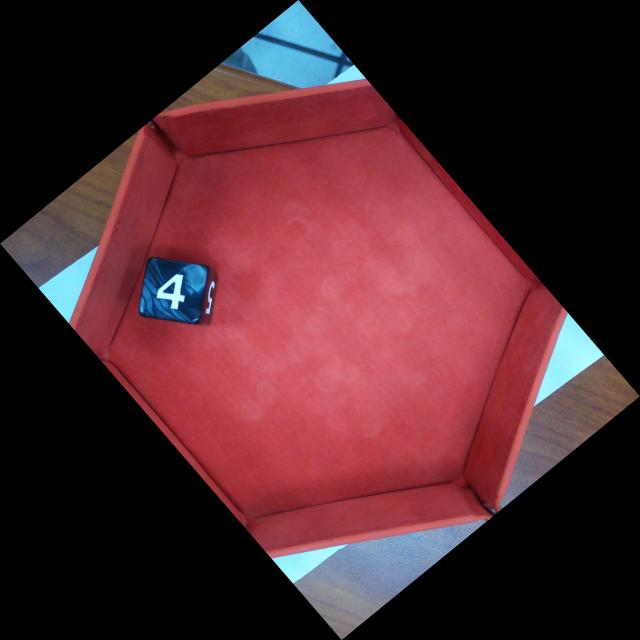dice: (140, 257, 211, 323)
